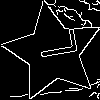L: (28, 27, 78, 63)
